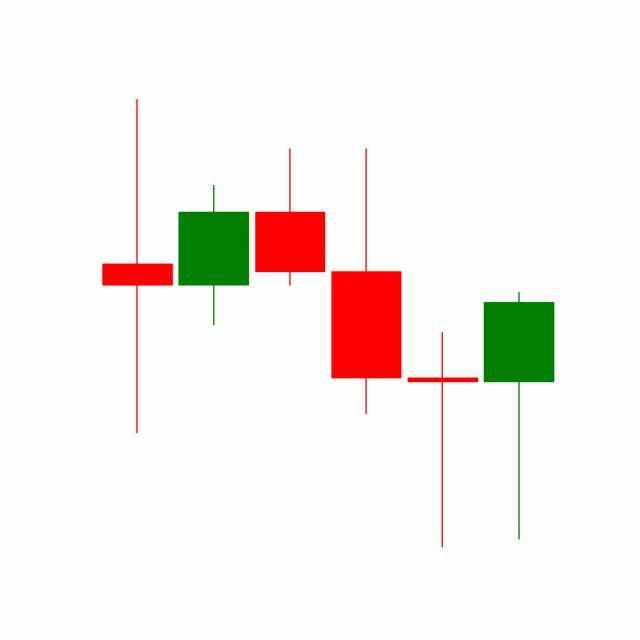Spinning Top: (404, 329, 482, 550)
